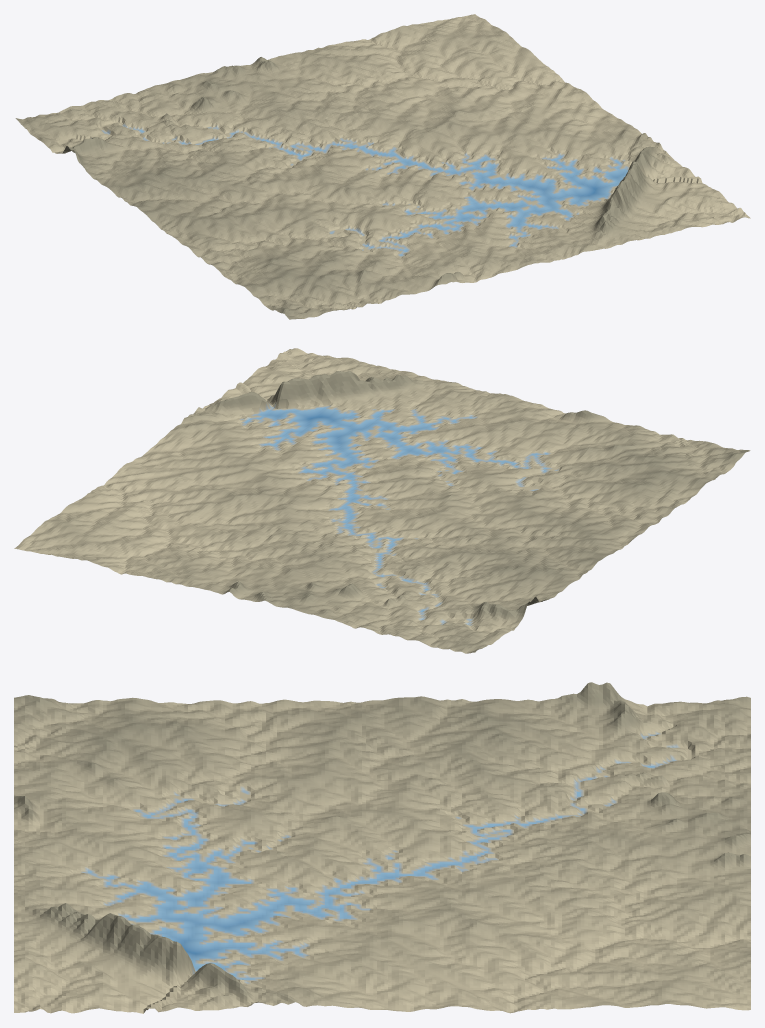
File: smith_mountain_lake_va.glb
3 views of the same model, one above another, from view 1: azimuth 30°, elevation 25°; view 2: azimuth 150°, elevation 25°; view 3: azimuth 270°, elevation 25° (orthographic). The views are drawn at different scales.
Parts seen in each view (by area): view 1: terrain, water; view 2: terrain, water; view 3: terrain, water.
Boxes of the visible parts, bbox=[...] form: terrain: bbox=[15, 14, 750, 319]; water: bbox=[139, 130, 627, 255]; terrain: bbox=[14, 348, 750, 653]; water: bbox=[244, 407, 547, 611]; terrain: bbox=[14, 682, 750, 1013]; water: bbox=[88, 766, 654, 979].
Bounding box in the file's own units: 30381 × 1878 × 31455.
